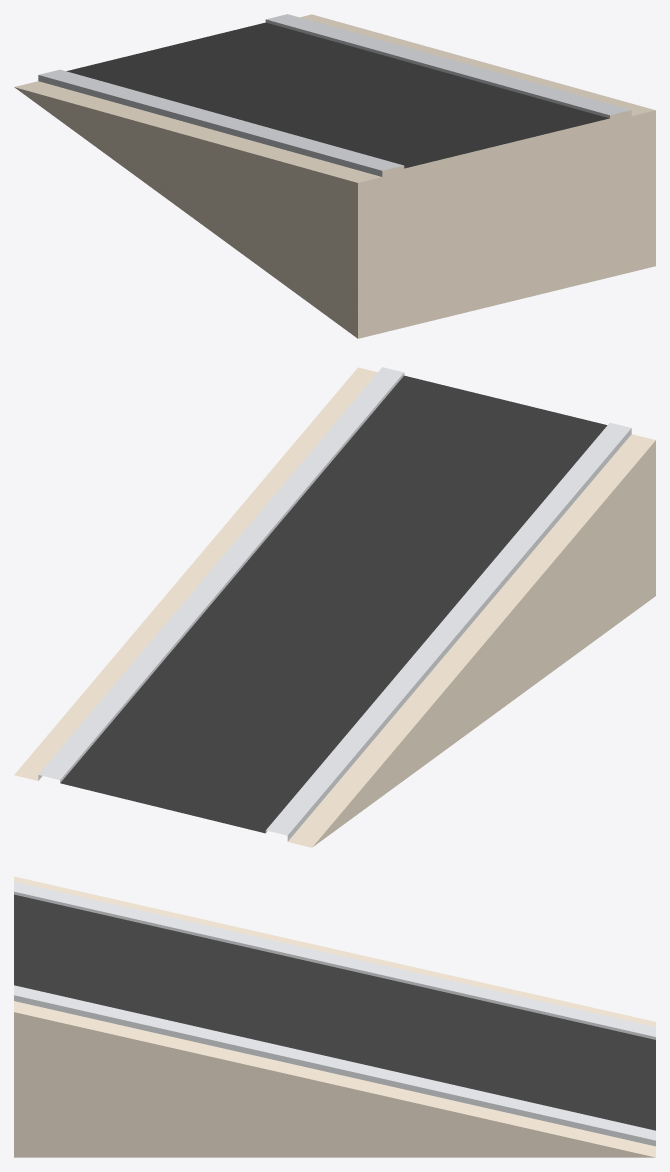
File: roadRampLongWall.obj
3 views of the same model, one above another, from view 1: azimuth 30°, elevation 25°; view 2: azimuth 150°, elevation 25°; view 3: azimuth 270°, elevation 25° (orthographic). The views are drawn at different scales.
Parts seen in each view (by area): view 1: roadRampLongWall; view 2: roadRampLongWall; view 3: roadRampLongWall.
Part boxes in pixels (x1,y1,x2,y2): roadRampLongWall: (14,14,655,338); roadRampLongWall: (14,367,655,847); roadRampLongWall: (14,876,655,1157).
Bounding box in the file's own units: 1 × 0.52 × 2.
